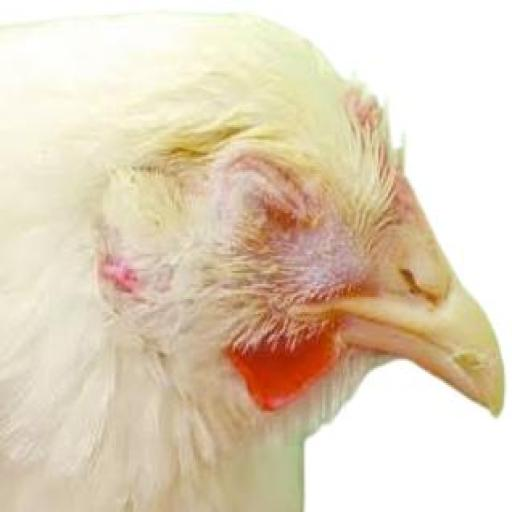disease: (215, 134, 310, 229)
